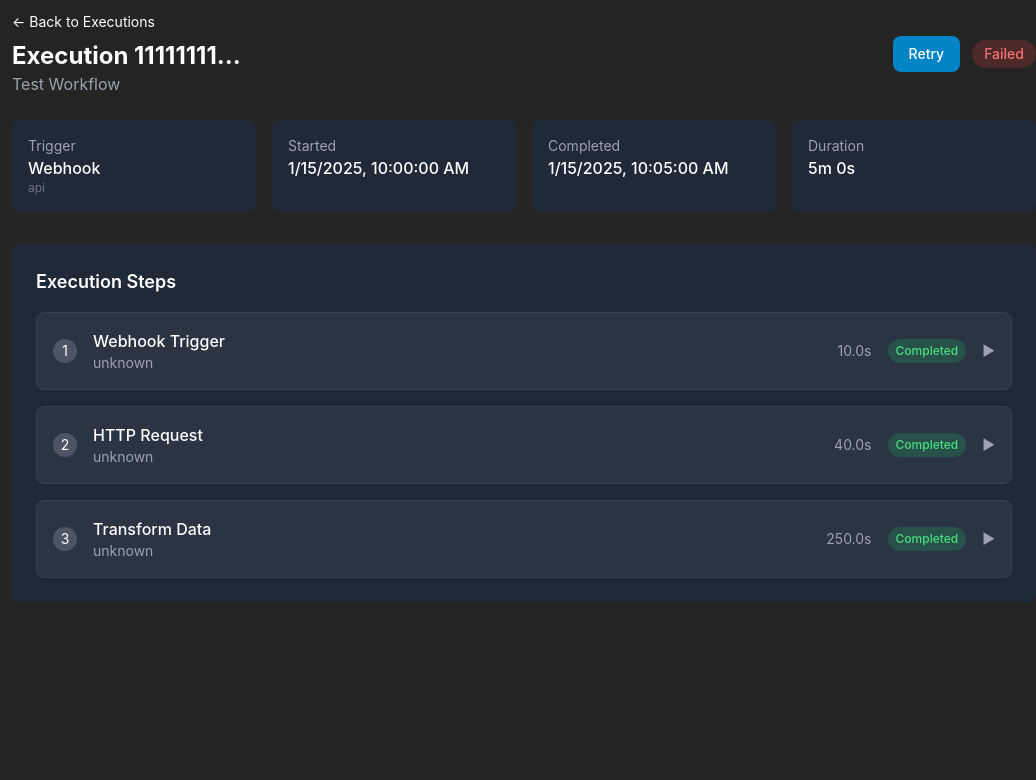
Test: ExecutionDetail Integration › Execution actions › should retry execution when retry button clicked
Click the button "Retry". click: [926, 54]
box: [893,36,960,72]
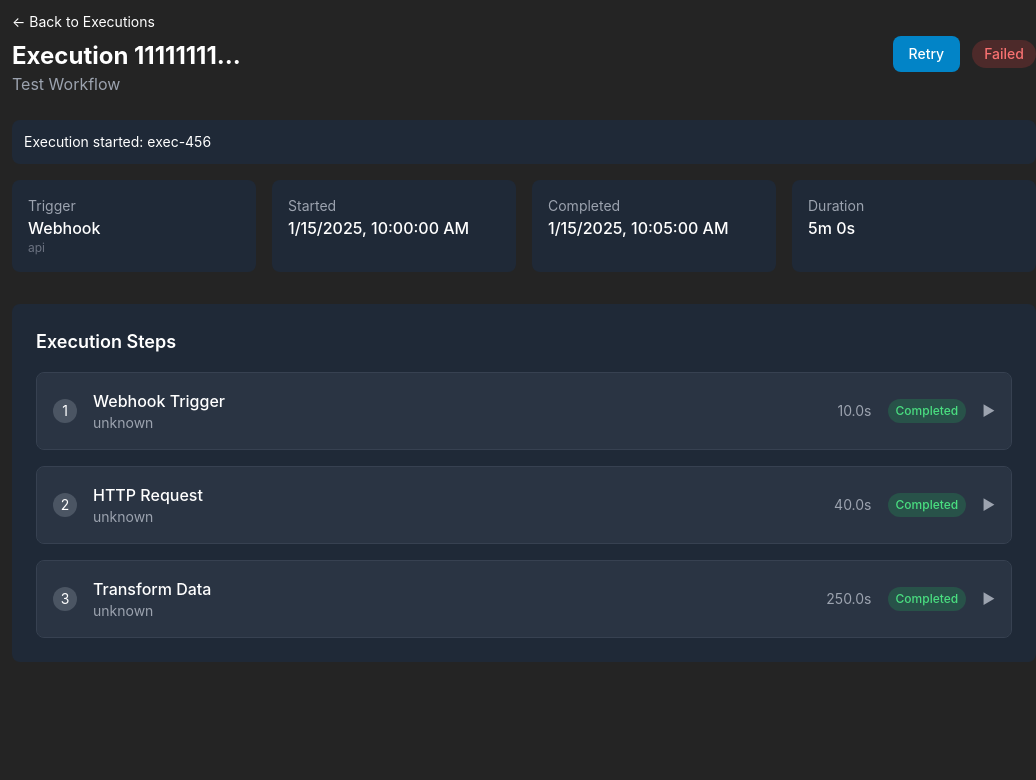
Now the text "Execution started: exec-456" is shown, box [12,120,1035,164]
